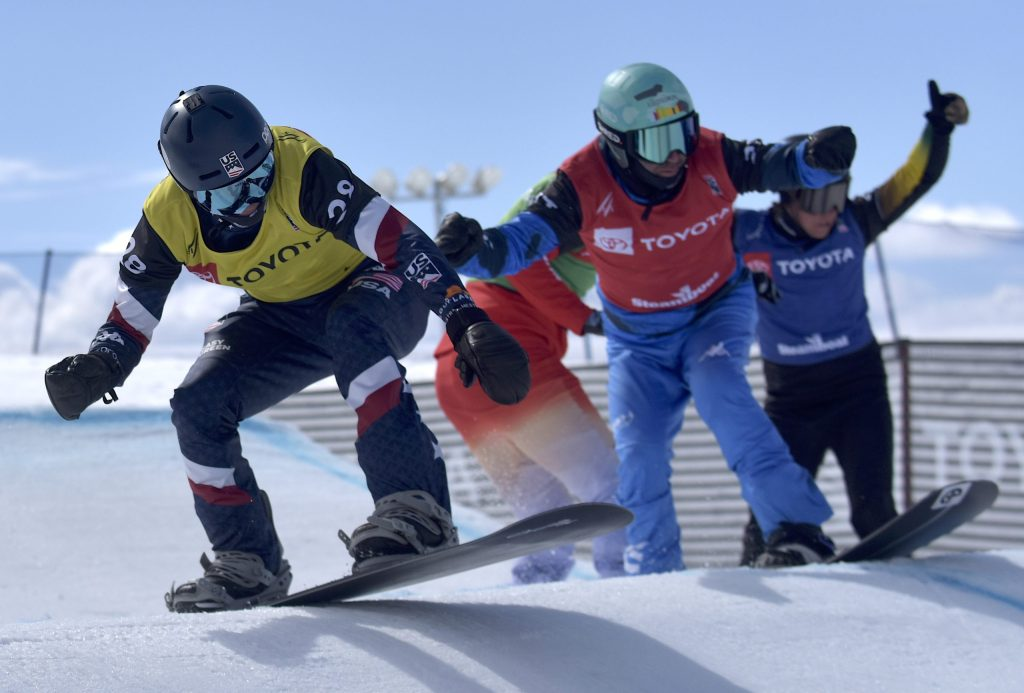snowboarder: (84, 79, 543, 615), (508, 70, 865, 596)
